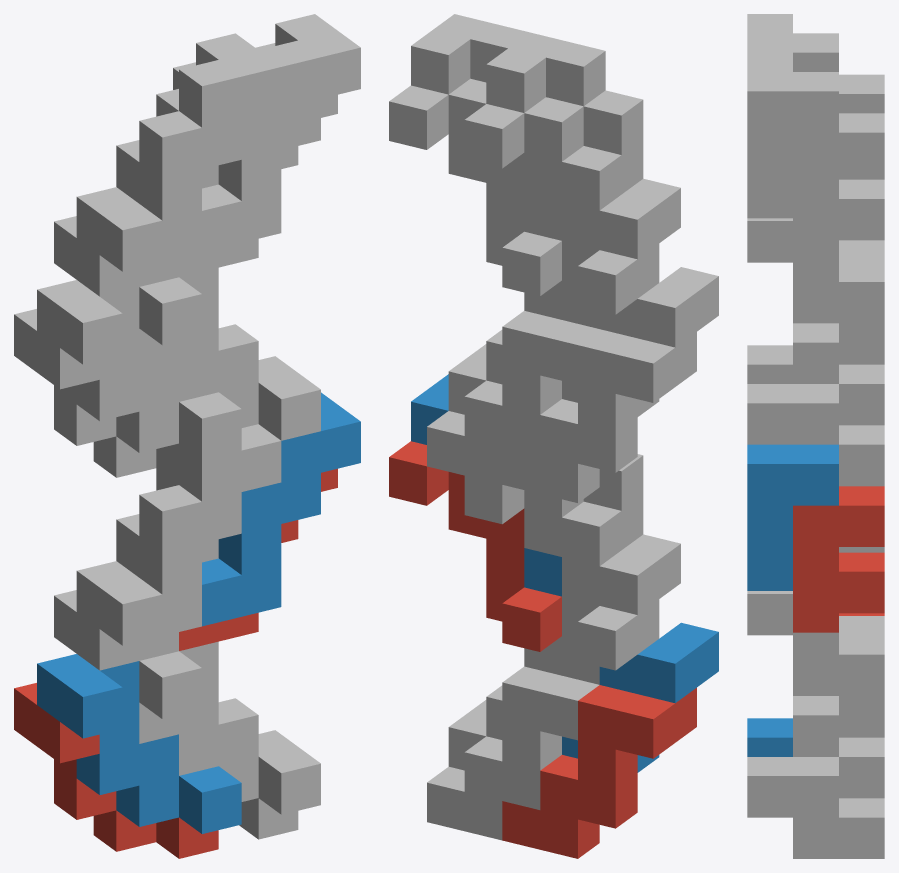
File: tiling.obj
3 views of the same model, side by side, from view 1: azimuth 30°, elevation 25°; view 2: azimuth 150°, elevation 25°; view 3: azimuth 270°, elevation 25° (orthographic). The views are drawn at different scales.
Parts seen in each view (by area): view 1: copy_2_domain_4, copy_2_domain_2, copy_1_domain_4, copy_1_domain_2, copy_2_domain_8, copy_1_domain_8, copy_1_domain_6, copy_2_domain_6, copy_1_domain_1, copy_1_domain_3, copy_2_domain_3, copy_2_domain_1 (+4 smaller); view 2: copy_2_domain_3, copy_1_domain_3, copy_1_domain_1, copy_2_domain_4, copy_2_domain_1, copy_1_domain_5, copy_1_domain_7, copy_2_domain_7, copy_2_domain_5, copy_2_domain_2, copy_2_domain_8, copy_1_domain_4 (+4 smaller); view 3: copy_1_domain_6, copy_1_domain_8, copy_1_domain_5, copy_2_domain_5, copy_2_domain_7, copy_1_domain_7, copy_2_domain_8, copy_2_domain_6, copy_2_domain_4, copy_2_domain_3, copy_1_domain_2, copy_1_domain_4.
Boxes of the visible parts, left/top/right/bottom form: copy_2_domain_4: left=76, top=33, right=281, bottom=271; copy_2_domain_2: left=76, top=424, right=281, bottom=645; copy_1_domain_4: left=37, top=280, right=241, bottom=459; copy_1_domain_2: left=37, top=654, right=241, bottom=833; copy_2_domain_8: left=202, top=14, right=360, bottom=252; copy_1_domain_8: left=139, top=267, right=320, bottom=440; copy_1_domain_6: left=139, top=641, right=320, bottom=814; copy_2_domain_6: left=202, top=392, right=360, bottom=626; copy_1_domain_1: left=14, top=683, right=218, bottom=858; copy_1_domain_3: left=14, top=309, right=178, bottom=484; copy_2_domain_3: left=54, top=62, right=218, bottom=296; copy_2_domain_1: left=54, top=468, right=218, bottom=670; copy_2_domain_3: left=464, top=97, right=659, bottom=314; copy_1_domain_3: left=502, top=329, right=696, bottom=502; copy_1_domain_1: left=502, top=685, right=696, bottom=858; copy_2_domain_4: left=486, top=32, right=680, bottom=259; copy_2_domain_1: left=464, top=475, right=659, bottom=670; copy_1_domain_5: left=427, top=666, right=598, bottom=840; copy_1_domain_7: left=427, top=310, right=599, bottom=484; copy_2_domain_7: left=389, top=78, right=561, bottom=296; copy_2_domain_5: left=389, top=441, right=561, bottom=651; copy_2_domain_2: left=583, top=454, right=680, bottom=614; copy_2_domain_8: left=411, top=14, right=561, bottom=240; copy_1_domain_4: left=562, top=267, right=718, bottom=416; copy_1_domain_6: left=747, top=591, right=838, bottom=817; copy_1_domain_8: left=747, top=218, right=838, bottom=444; copy_1_domain_5: left=793, top=616, right=884, bottom=858; copy_2_domain_5: left=793, top=486, right=884, bottom=632; copy_2_domain_7: left=793, top=113, right=884, bottom=259; copy_1_domain_7: left=839, top=243, right=884, bottom=486; copy_2_domain_8: left=747, top=52, right=838, bottom=218; copy_2_domain_6: left=747, top=444, right=838, bottom=590; copy_2_domain_4: left=747, top=14, right=838, bottom=71; copy_2_domain_3: left=839, top=74, right=884, bottom=179; copy_1_domain_2: left=747, top=718, right=792, bottom=756; copy_1_domain_4: left=747, top=345, right=792, bottom=383.
Size of the model in its own units: 7 by 19 by 3.
